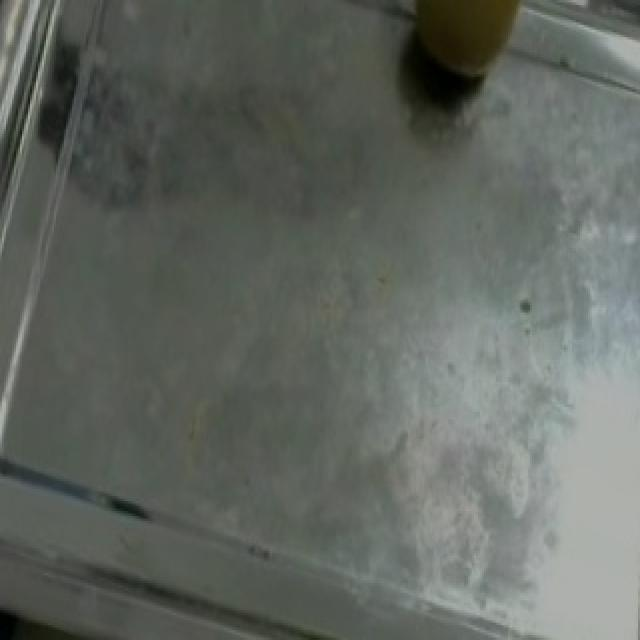Fruit: (372, 0, 554, 134)
